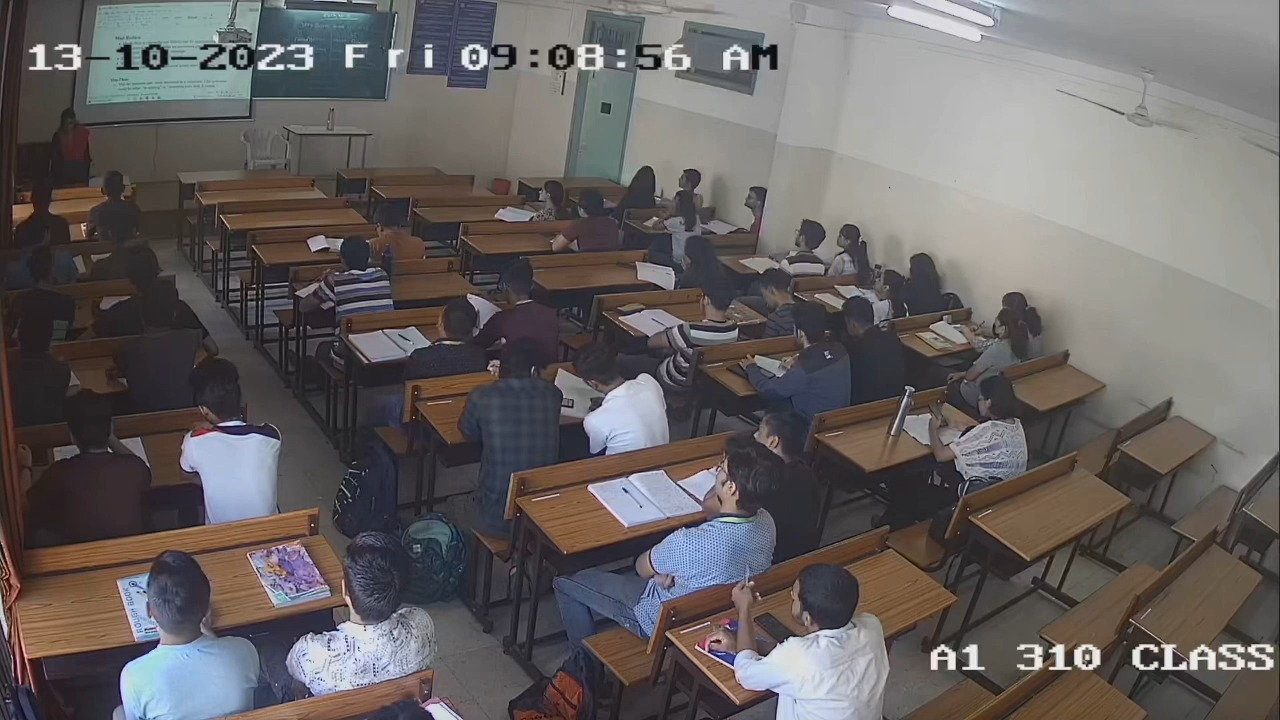cell-phones: (753, 609, 797, 647), (927, 401, 951, 429), (614, 304, 644, 314)
person: (725, 562, 891, 720), (922, 373, 1032, 495), (645, 272, 742, 379)
